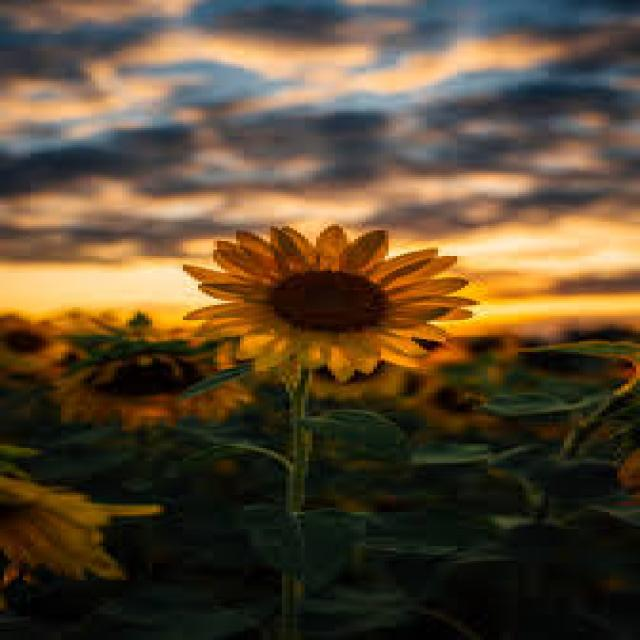sunflower: (175, 220, 488, 378)
